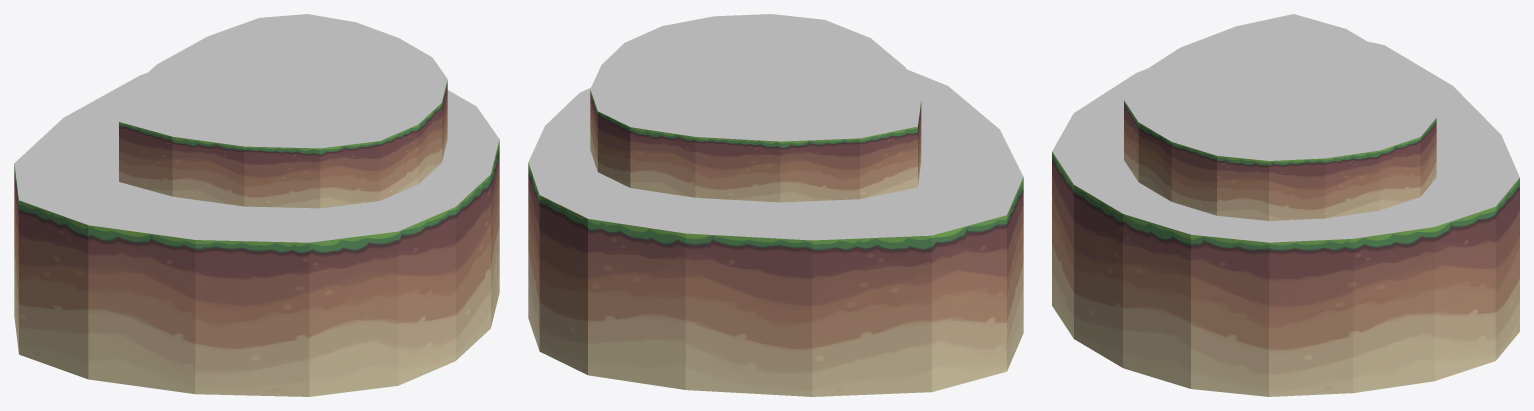
Rendered from LandMass3.fbx.
The picture shows the model from 3 angles, left to right: view 1: azimuth 30°, elevation 25°; view 2: azimuth 150°, elevation 25°; view 3: azimuth 270°, elevation 25°; orthographic projection.
Parts seen in each view (by area): view 1: Circle.008; view 2: Circle.008; view 3: Circle.008.
Boxes of the visible parts, x1,y1,x2,y2 form: Circle.008: [14, 14, 499, 396]; Circle.008: [528, 14, 1023, 396]; Circle.008: [1052, 14, 1519, 396].
Size of the model in its own units: 262 by 122 by 242.
